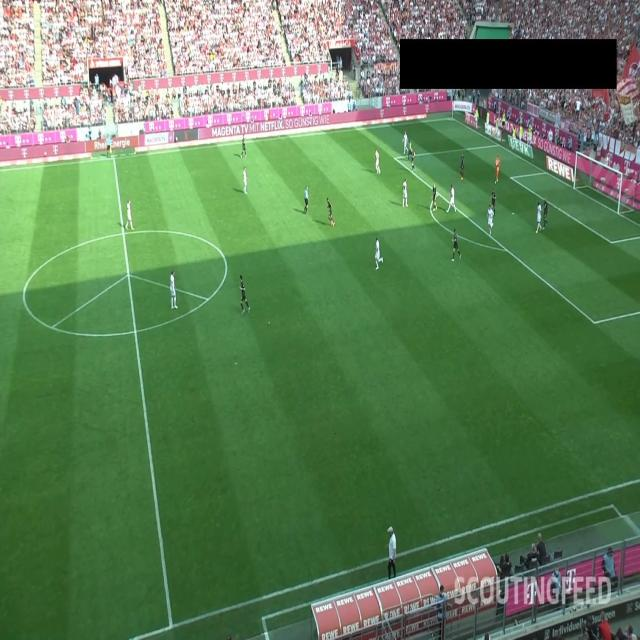ball: (496, 162, 498, 166)
